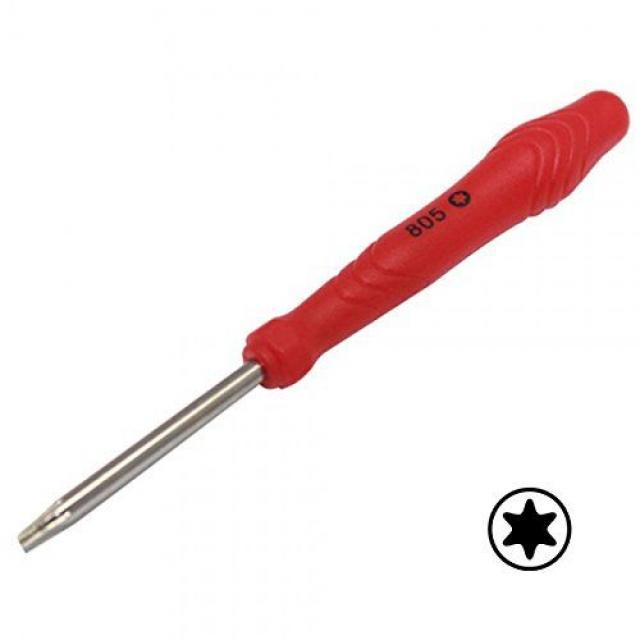screwdriver: (12, 87, 632, 558)
